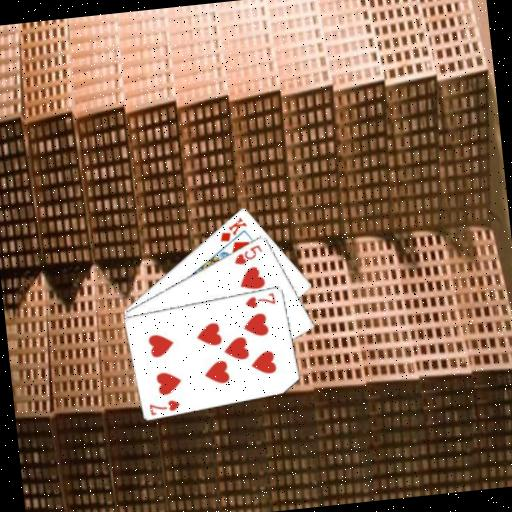5H: (230, 241, 265, 267)
7H: (146, 395, 183, 417), (241, 289, 278, 310)
KD: (215, 214, 250, 244)
